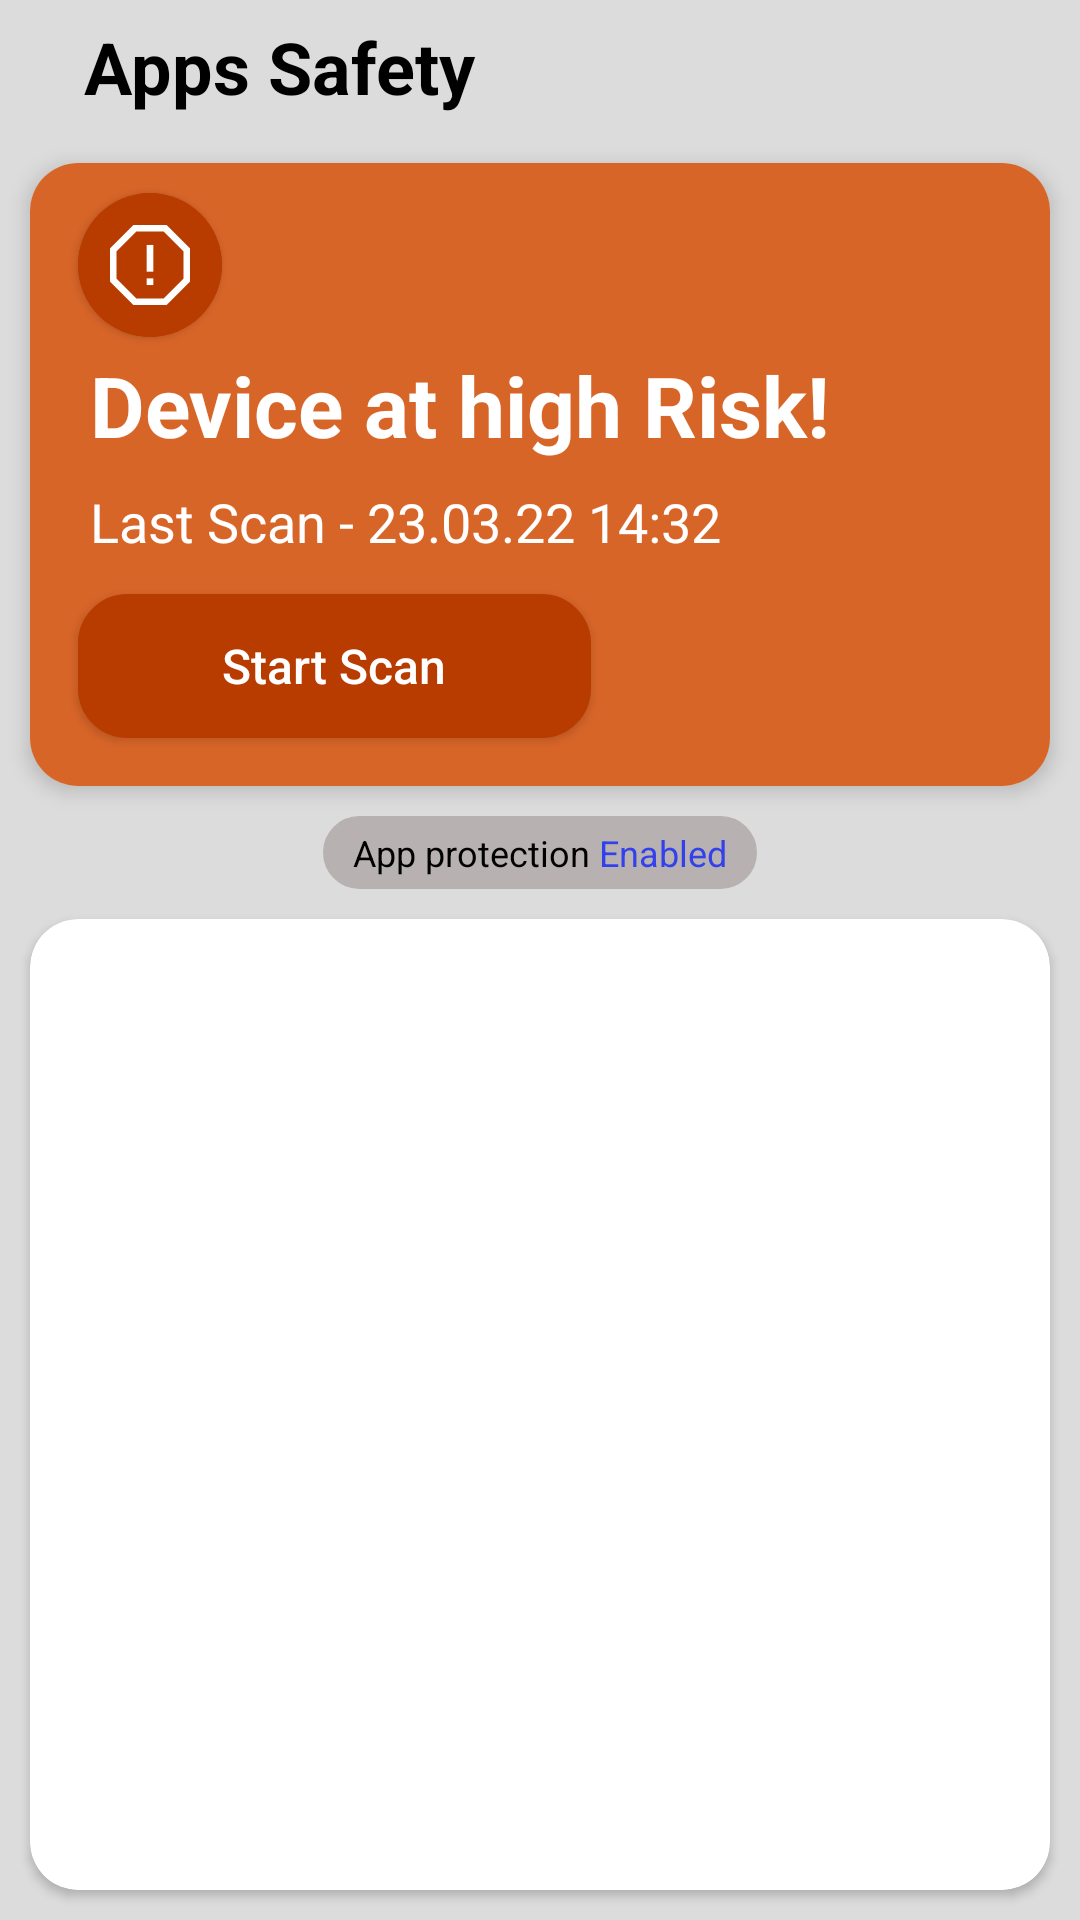

Named icons in this screenshot (1080*1920) and their bounding boxes, BBox(x1, y1, x2, y2):
warning: BBox(78, 193, 222, 337)
